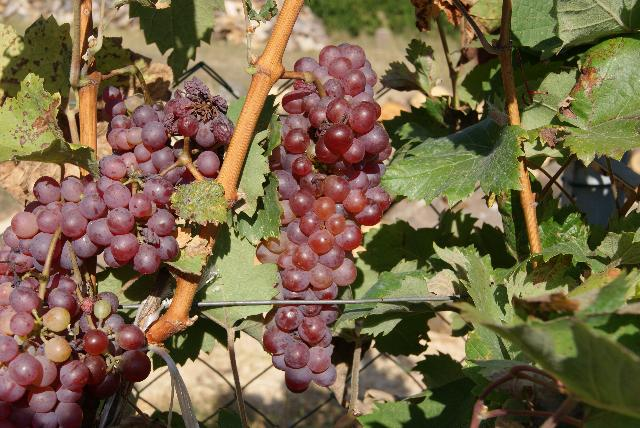grapes: (256, 45, 391, 301), (0, 282, 150, 428), (6, 156, 179, 274), (102, 78, 235, 169), (262, 304, 339, 392), (0, 250, 30, 275)
